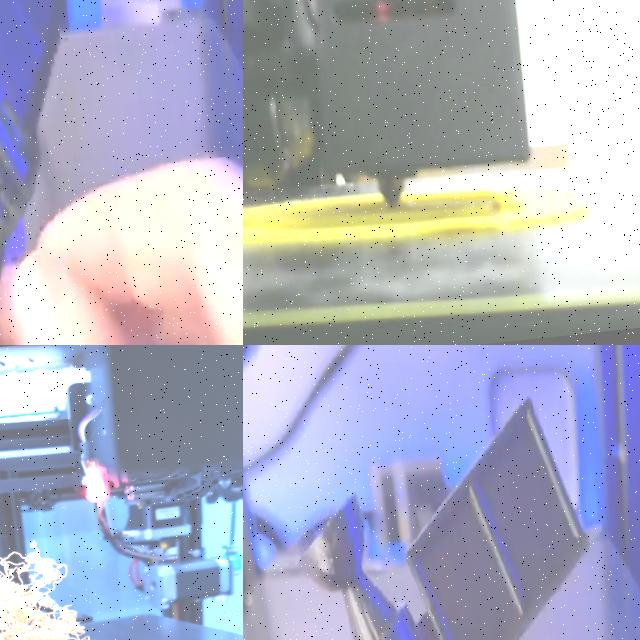spaghetti: (0, 536, 170, 640)
